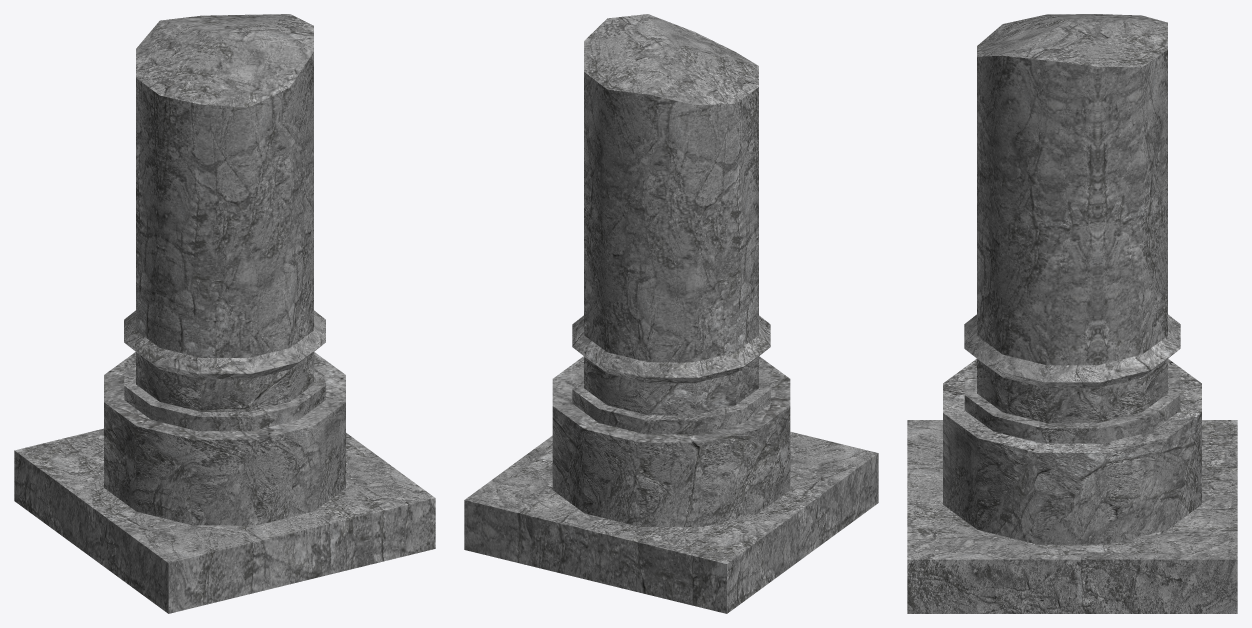
File: materials_3_pillar_3.fbx
3 renders of one model, left to right at view 1: azimuth 30°, elevation 25°; view 2: azimuth 150°, elevation 25°; view 3: azimuth 270°, elevation 25°, orthographic. The views are drawn at different scales.
Visible parts, largest first — view 1: materials_3_pillar_3; view 2: materials_3_pillar_3; view 3: materials_3_pillar_3.
Boxes of the visible parts, x1,y1,x2,y2 form: materials_3_pillar_3: (14,14,435,613); materials_3_pillar_3: (464,14,878,613); materials_3_pillar_3: (907,14,1237,613).
Bounding box in the file's own units: 48.61 × 85.17 × 48.61.
